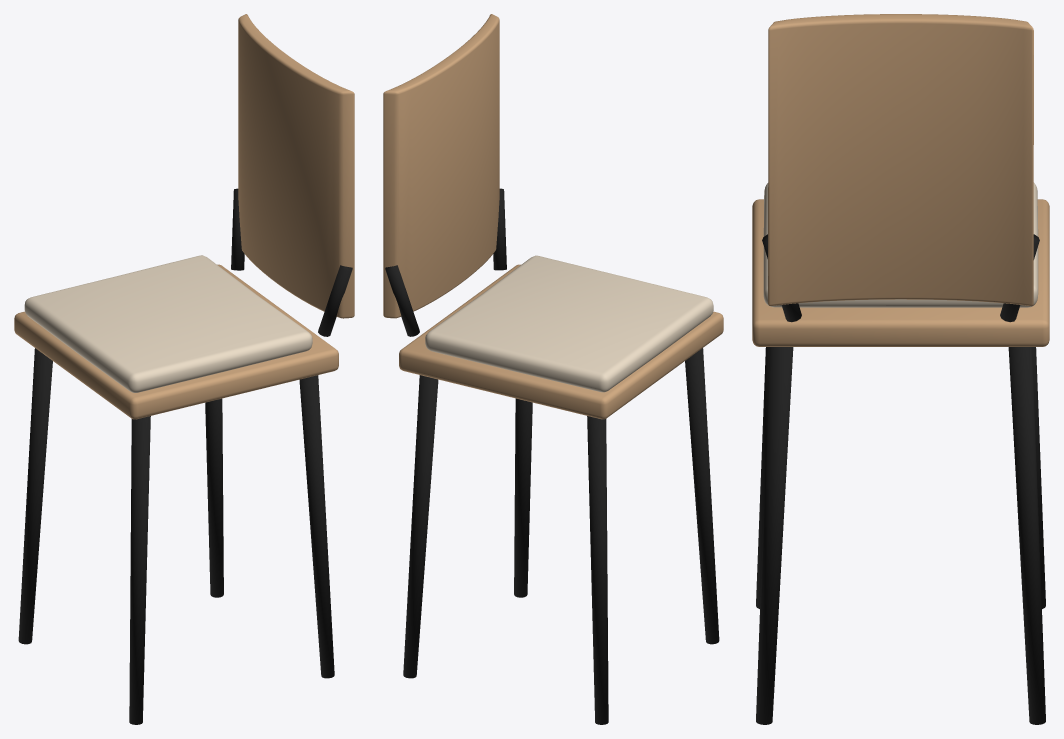
Rendered from kitchen-chair.glb.
3 views of the same model, side by side, from view 1: azimuth 30°, elevation 25°; view 2: azimuth 150°, elevation 25°; view 3: azimuth 270°, elevation 25° (orthographic). The views are drawn at different scales.
Parts seen in each view (by area): view 1: Chair__Backrest, Chair__Cushion, Chair__Legs, Chair__SeatShell; view 2: Chair__Backrest, Chair__Cushion, Chair__Legs, Chair__SeatShell; view 3: Chair__Backrest, Chair__Legs, Chair__SeatShell, Chair__Cushion.
Boxes of the visible parts, x1,y1,x2,y2 form: Chair__Backrest: (238,14,354,318); Chair__Cushion: (24,255,312,392); Chair__Legs: (18,188,352,724); Chair__SeatShell: (14,264,338,419); Chair__Backrest: (383,14,499,318); Chair__Cushion: (425,255,713,392); Chair__Legs: (385,188,719,724); Chair__SeatShell: (399,264,723,419); Chair__Backrest: (768,14,1033,306); Chair__Legs: (756,234,1045,724); Chair__SeatShell: (752,199,1049,346); Chair__Cushion: (763,182,1038,307).
Bounding box in the file's own units: 54.86 × 132 × 50.
